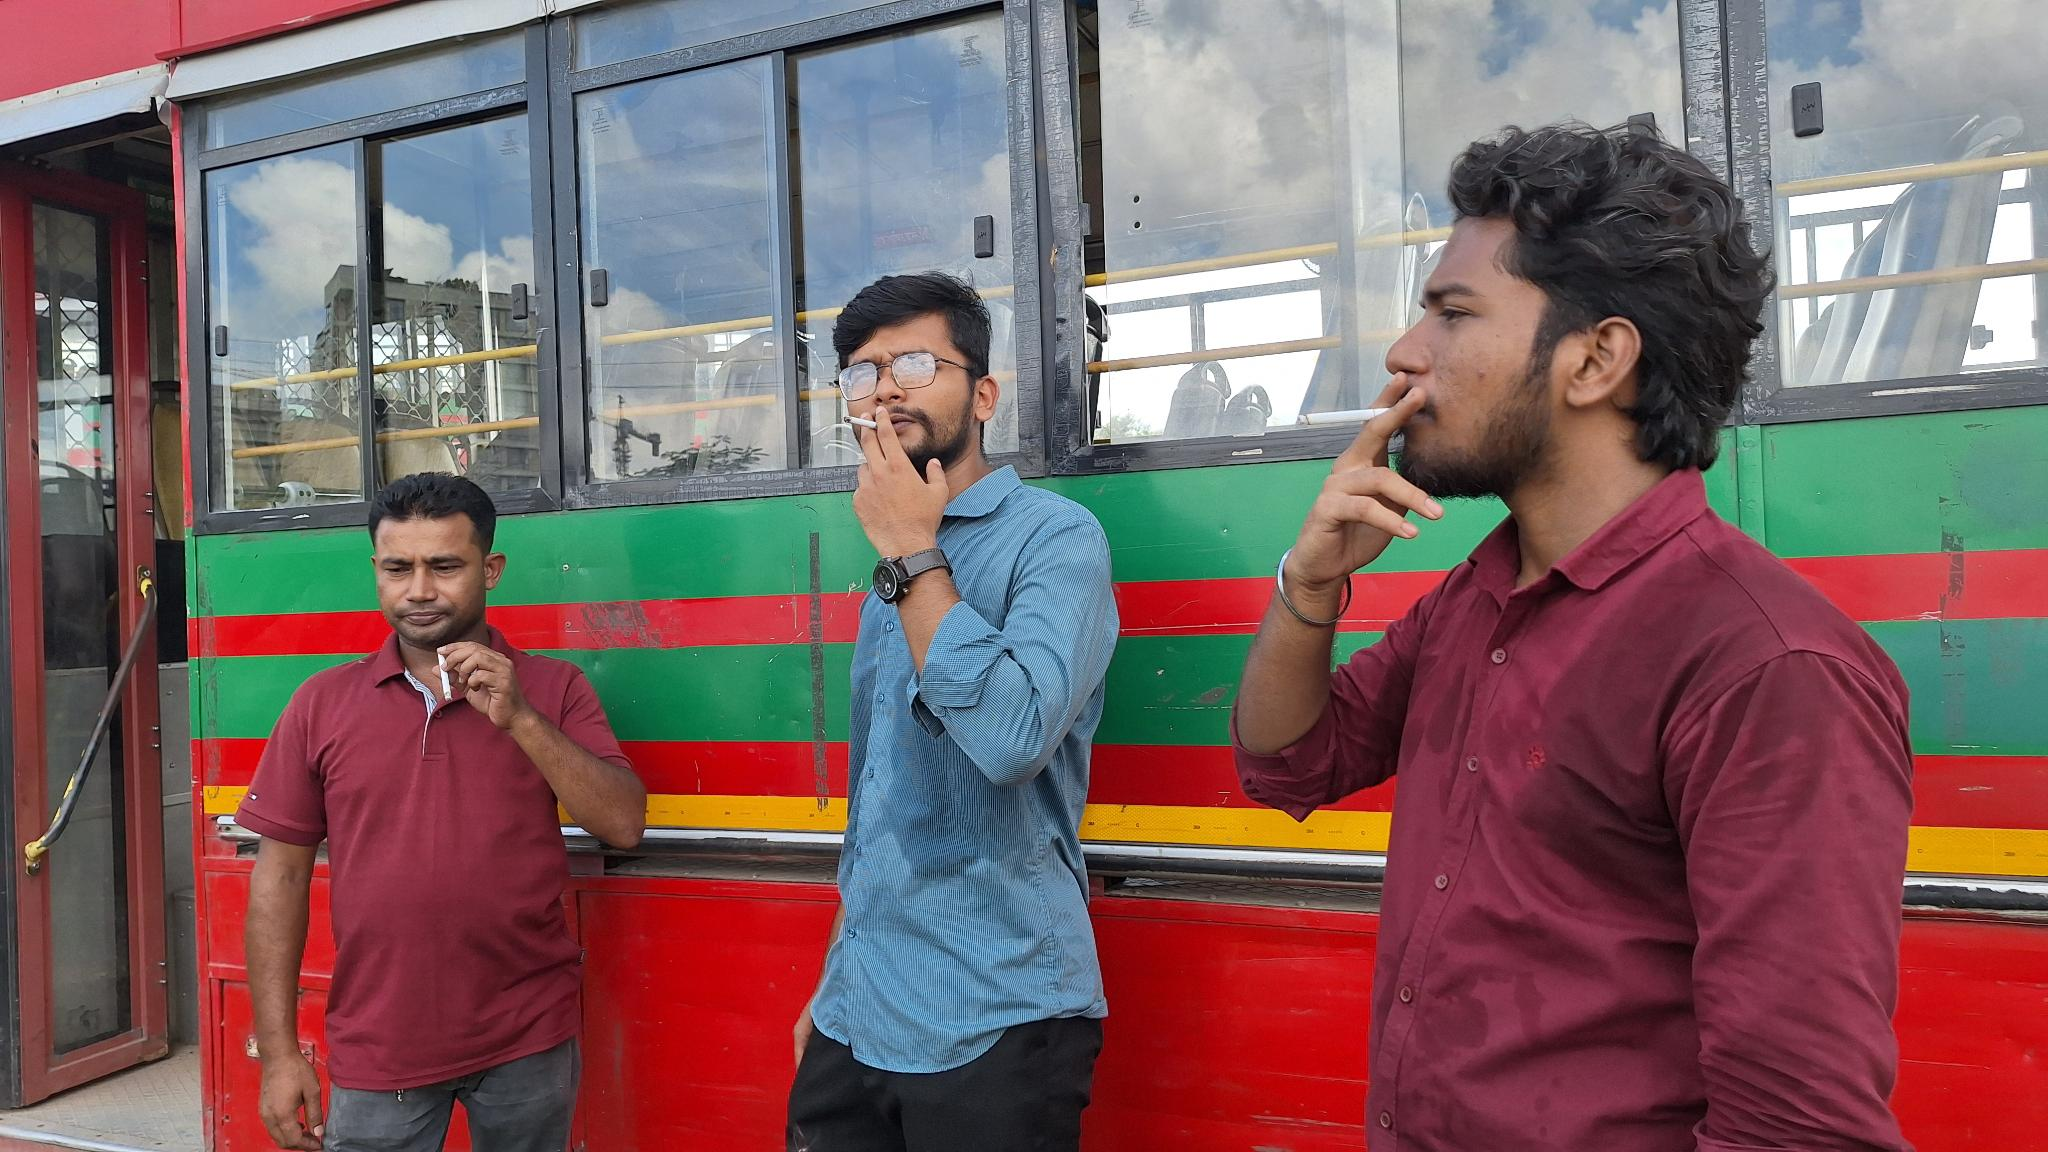cigarette: (1293, 405, 1395, 430), (435, 647, 454, 705), (841, 414, 881, 432)
smoker: (1229, 129, 1917, 1152), (785, 276, 1121, 1152), (232, 471, 648, 1151)
